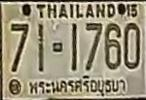0: (123, 22, 140, 68)
1: (38, 24, 43, 68), (72, 24, 76, 68)
6: (104, 22, 120, 69)
7: (10, 23, 28, 70), (85, 22, 102, 69)
AYA: (29, 74, 127, 95)
